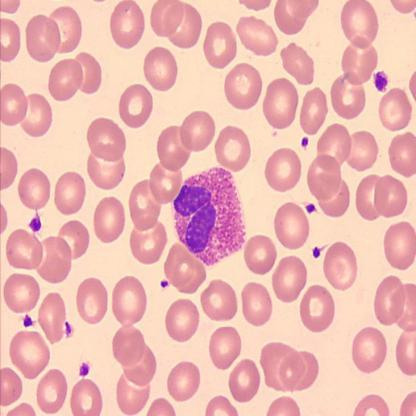Eosinophil: (172, 167, 246, 266)
